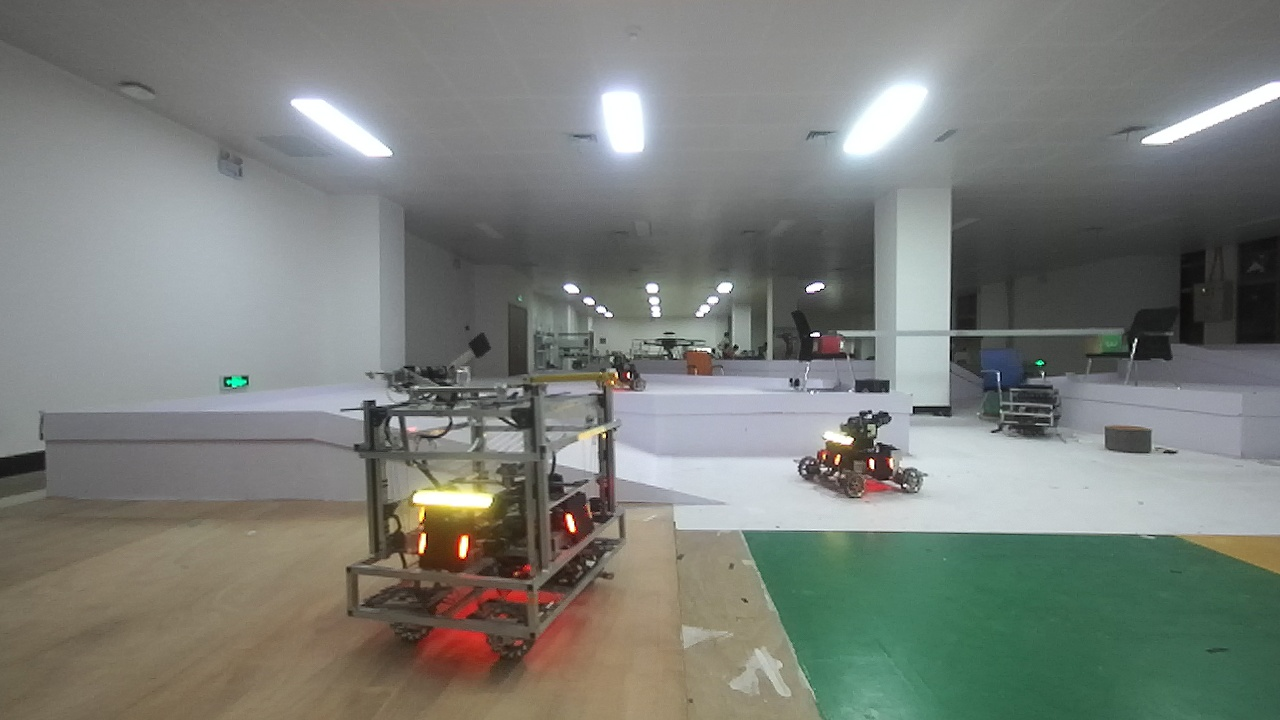car: (346, 384, 632, 671), (796, 398, 936, 512), (594, 350, 655, 400)
